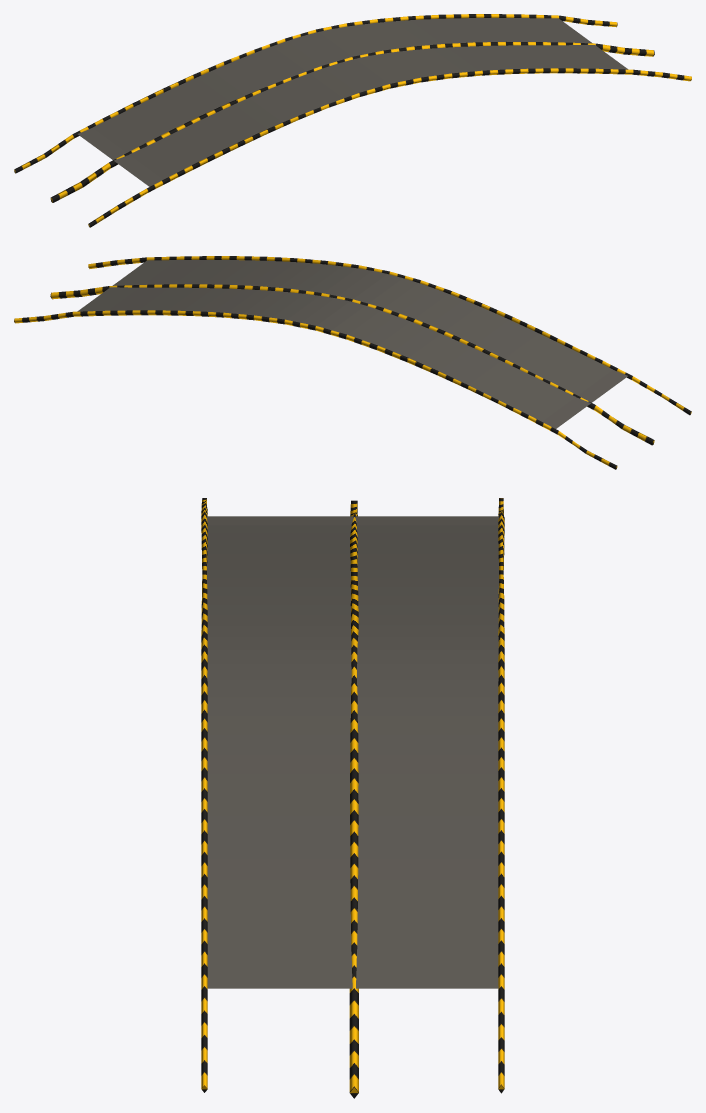
Rendered from Spline-Bridge.fbx.
3 renders of one model, top to bottom at view 1: azimuth 30°, elevation 25°; view 2: azimuth 150°, elevation 25°; view 3: azimuth 270°, elevation 25°, orthographic. The views are drawn at different scales.
Parts seen in each view (by area): view 1: Bridge; view 2: Bridge; view 3: Bridge.
Part boxes in pixels (x1,y1,x2,y2): Bridge: (14, 14, 691, 227); Bridge: (14, 256, 691, 469); Bridge: (201, 498, 504, 1098).
Bounding box in the file's own units: 3908 × 457 × 851.
Materials: 2 (1 with a texture image).
